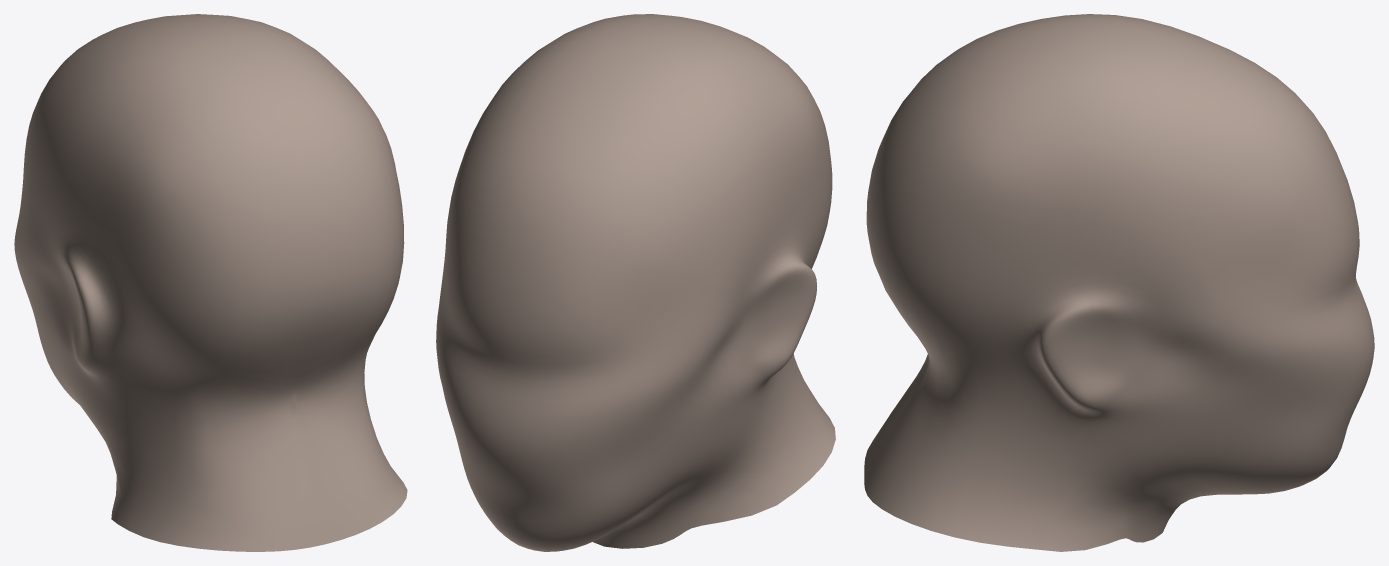
File: dwarf_head.fbx
3 views of the same model, side by side, from view 1: azimuth 30°, elevation 25°; view 2: azimuth 150°, elevation 25°; view 3: azimuth 270°, elevation 25° (orthographic). The views are drawn at different scales.
Visible parts, largest first — view 1: Mesh1; view 2: Mesh1; view 3: Mesh1.
Boxes of the visible parts, bbox=[...] form: Mesh1: bbox=[14, 14, 407, 551]; Mesh1: bbox=[436, 14, 835, 551]; Mesh1: bbox=[864, 14, 1374, 551].
Bounding box in the file's own units: 0.5292 × 0.7887 × 0.7444.
